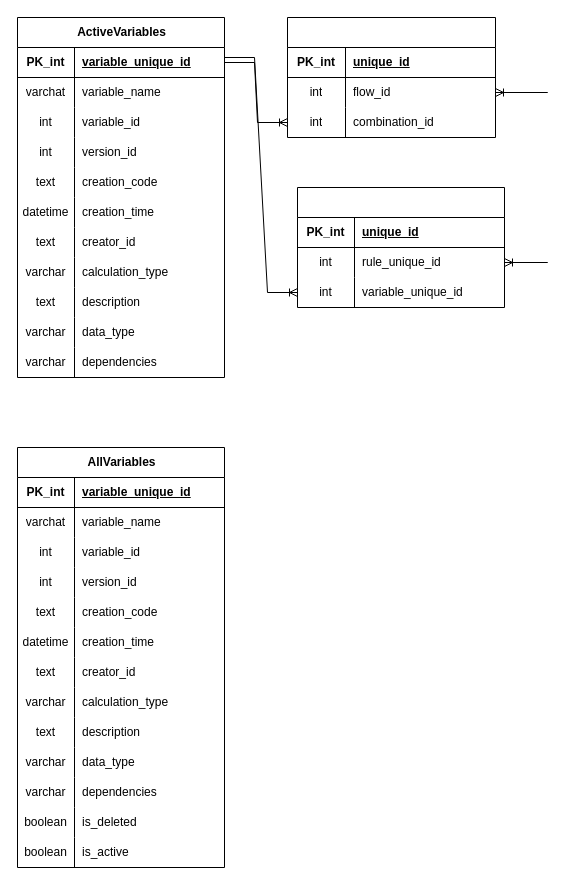
Some shapes in this 573 by 885 pixel diagram are drawn without their labels. The shapes that lost their labels are listed below. From the top down, each one's box as (x1, y1, x2, y2) in pixels, then its label:
(286, 16, 496, 138): ConnectorFlowVariables
(296, 186, 504, 308): ConnectorRulesVariables
